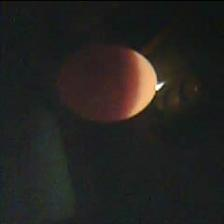fertile: (55, 43, 159, 122)
